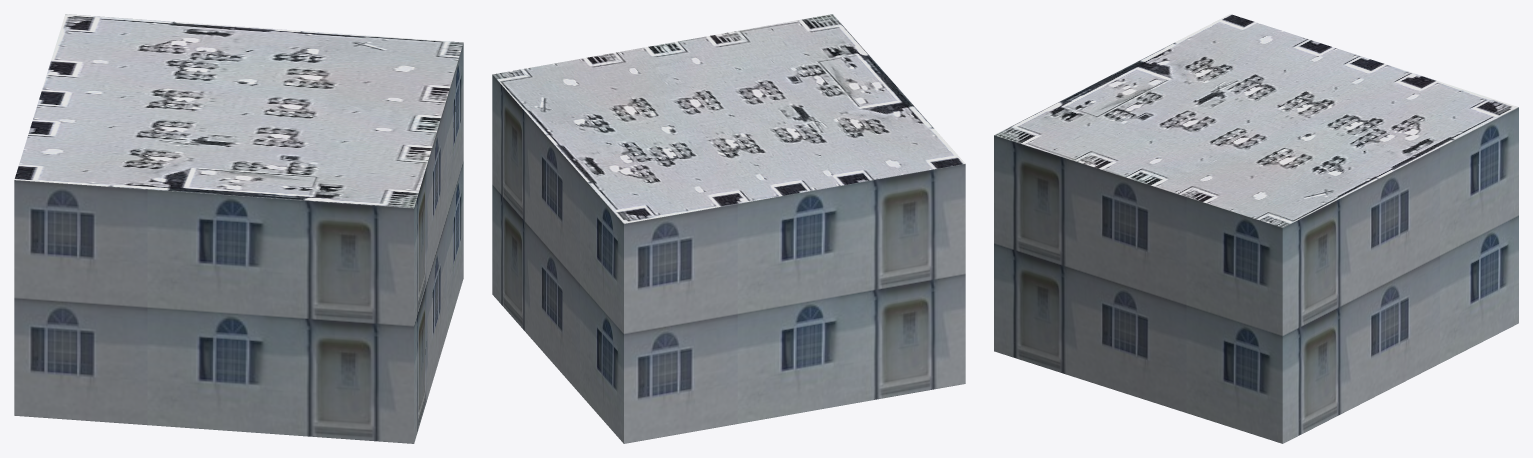
File: ResTex__4017.fbx
The picture shows the model from 3 angles, left to right: view 1: azimuth 30°, elevation 25°; view 2: azimuth 150°, elevation 25°; view 3: azimuth 270°, elevation 25°; orthographic projection. The views are drawn at different scales.
Parts seen in each view (by area): view 1: CityEngineMaterial_17_m, CityEngineMaterial_4_m; view 2: CityEngineMaterial_17_m, CityEngineMaterial_4_m; view 3: CityEngineMaterial_17_m, CityEngineMaterial_4_m.
Boxes of the visible parts, <box> form: CityEngineMaterial_17_m: <box>14,43,463,443</box>; CityEngineMaterial_4_m: <box>14,14,463,208</box>; CityEngineMaterial_17_m: <box>492,74,965,443</box>; CityEngineMaterial_4_m: <box>492,14,965,223</box>; CityEngineMaterial_17_m: <box>994,107,1518,443</box>; CityEngineMaterial_4_m: <box>994,14,1518,227</box>.
Bounding box in the file's own units: 12.73 × 6 × 13.2.
2 materials, 2 textured.
